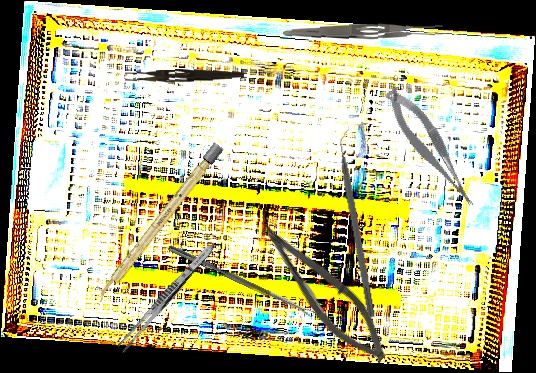Chopper: (334, 124, 386, 320)
Dressing Forceps: (114, 239, 219, 356), (282, 21, 445, 44), (124, 65, 245, 86)
Micro Scissor: (246, 216, 402, 372), (379, 77, 481, 220)
Scalpel Handle: (93, 142, 225, 304)
Surgical Spoon: (167, 244, 315, 319)
